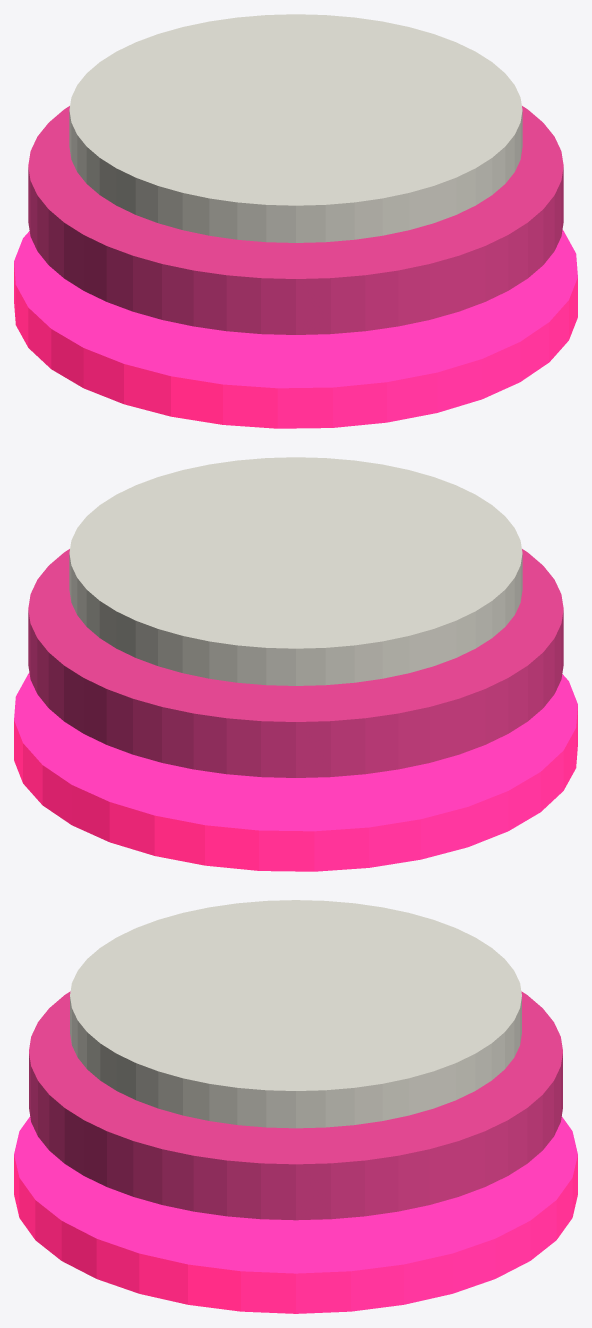
File: beauty_powder_compact.dae
The picture shows the model from 3 angles, top to bottom: view 1: azimuth 30°, elevation 25°; view 2: azimuth 150°, elevation 25°; view 3: azimuth 270°, elevation 25°; orthographic projection.
Parts seen in each view (by area): view 1: 03_18_Popular_Beauty_Powder_Compact_part_02, 03_18_Popular_Beauty_Powder_Compact_part_01, 03_18_Popular_Beauty_Powder_Compact_ROOT_base; view 2: 03_18_Popular_Beauty_Powder_Compact_part_02, 03_18_Popular_Beauty_Powder_Compact_part_01, 03_18_Popular_Beauty_Powder_Compact_ROOT_base; view 3: 03_18_Popular_Beauty_Powder_Compact_part_02, 03_18_Popular_Beauty_Powder_Compact_part_01, 03_18_Popular_Beauty_Powder_Compact_ROOT_base.
Boxes of the visible parts, <box> form: 03_18_Popular_Beauty_Powder_Compact_part_02: <box>69,14,522,242</box>; 03_18_Popular_Beauty_Powder_Compact_part_01: <box>28,106,563,334</box>; 03_18_Popular_Beauty_Powder_Compact_ROOT_base: <box>14,230,577,428</box>; 03_18_Popular_Beauty_Powder_Compact_part_02: <box>69,457,522,685</box>; 03_18_Popular_Beauty_Powder_Compact_part_01: <box>28,549,563,777</box>; 03_18_Popular_Beauty_Powder_Compact_ROOT_base: <box>14,673,577,871</box>; 03_18_Popular_Beauty_Powder_Compact_part_02: <box>70,900,521,1128</box>; 03_18_Popular_Beauty_Powder_Compact_part_01: <box>29,991,562,1220</box>; 03_18_Popular_Beauty_Powder_Compact_ROOT_base: <box>14,1116,577,1313</box>.
Size of the model in its own units: 0.76 by 0.2962 by 0.76.
